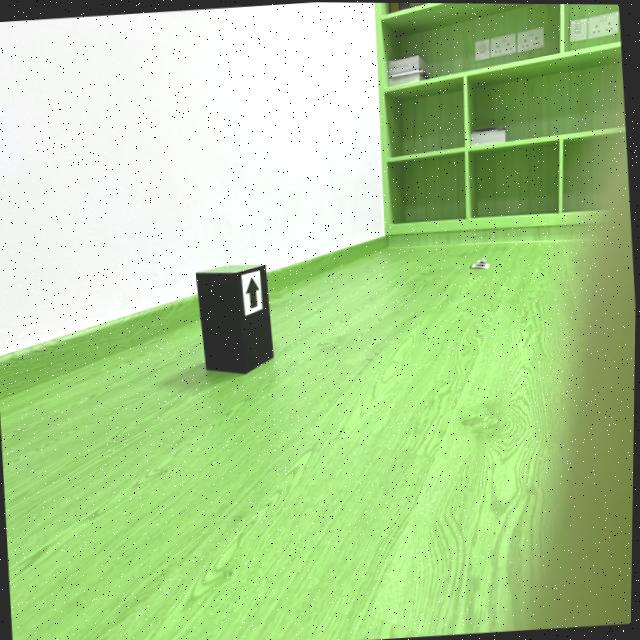UP: (246, 276, 260, 308)
